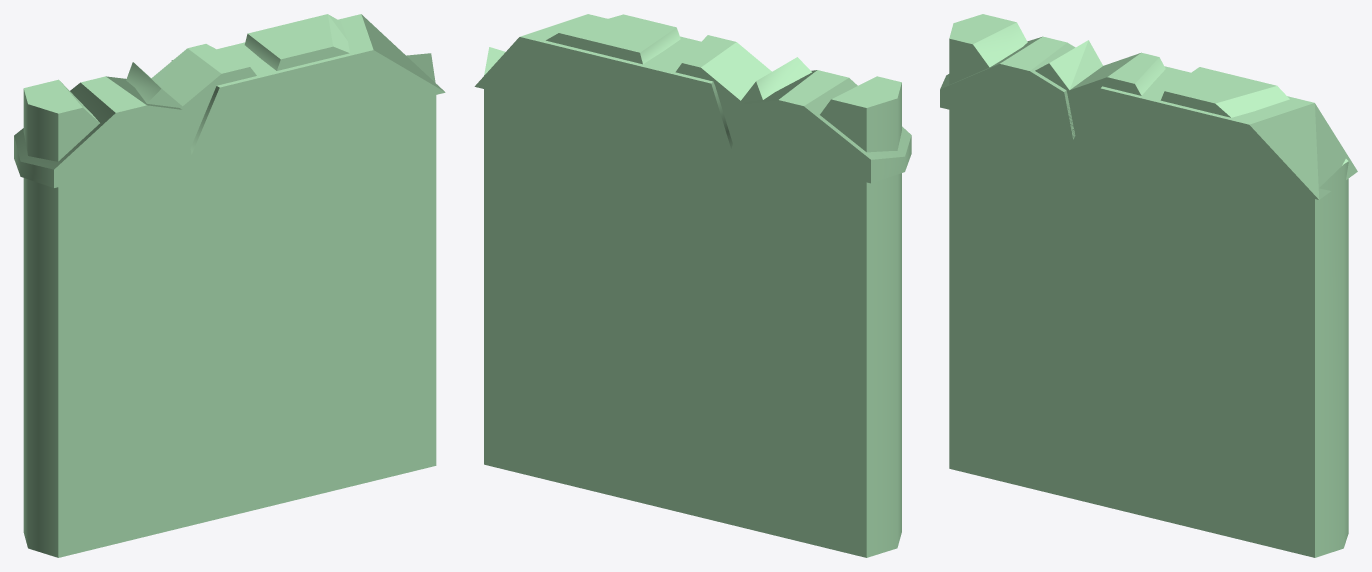
3 views of the same model, side by side, from view 1: azimuth 30°, elevation 25°; view 2: azimuth 150°, elevation 25°; view 3: azimuth 330°, elevation 25° (orthographic). The views are drawn at different scales.
Parts seen in each view (by area): view 1: Object02; view 2: Object02; view 3: Object02.
Part boxes in pixels (<box>): Object02: <box>14,14,445,557</box>; Object02: <box>474,14,911,557</box>; Object02: <box>940,14,1357,557</box>.
Bounding box in the file's own units: 299 × 309 × 50.42.
